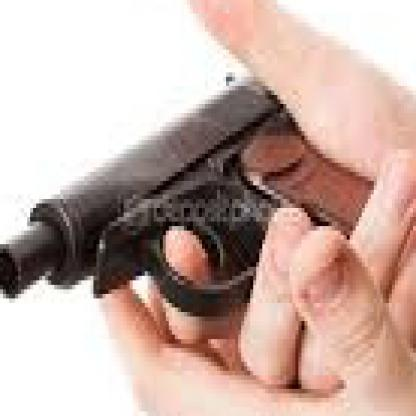gun: (0, 18, 413, 380)
